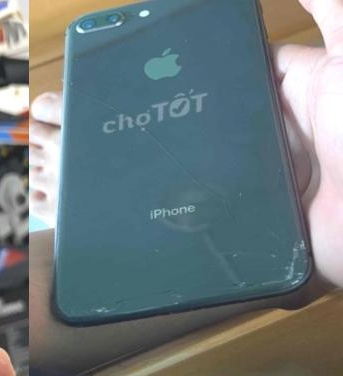physical_damage: (48, 30, 293, 264), (61, 254, 276, 336), (266, 229, 306, 285)
scratch: (56, 0, 131, 41)
